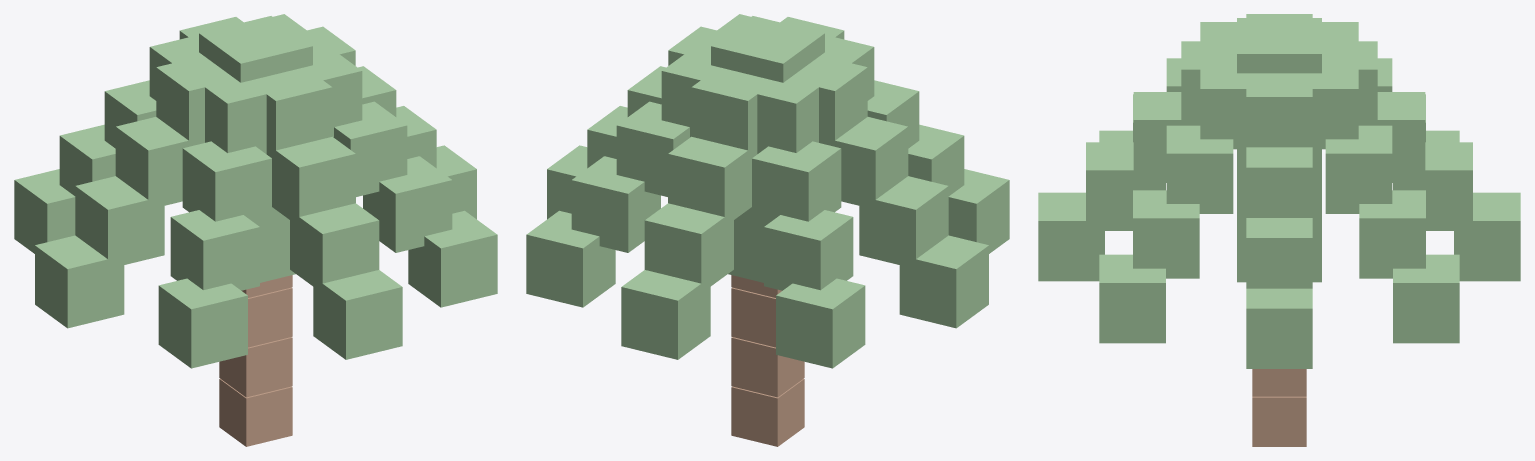
Rendered from ember_prop_tree_01.glb.
3 views of the same model, side by side, from view 1: azimuth 30°, elevation 25°; view 2: azimuth 150°, elevation 25°; view 3: azimuth 270°, elevation 25° (orthographic).
Parts seen in each view (by area): view 1: ember_prop_tree_01; view 2: ember_prop_tree_01; view 3: ember_prop_tree_01.
Part boxes in pixels (left/top/right/bottom): ember_prop_tree_01: left=14, top=14, right=497, bottom=446; ember_prop_tree_01: left=526, top=14, right=1009, bottom=446; ember_prop_tree_01: left=1038, top=14, right=1520, bottom=446.
Bounding box in the file's own units: 3.9 × 3.56 × 3.9.
